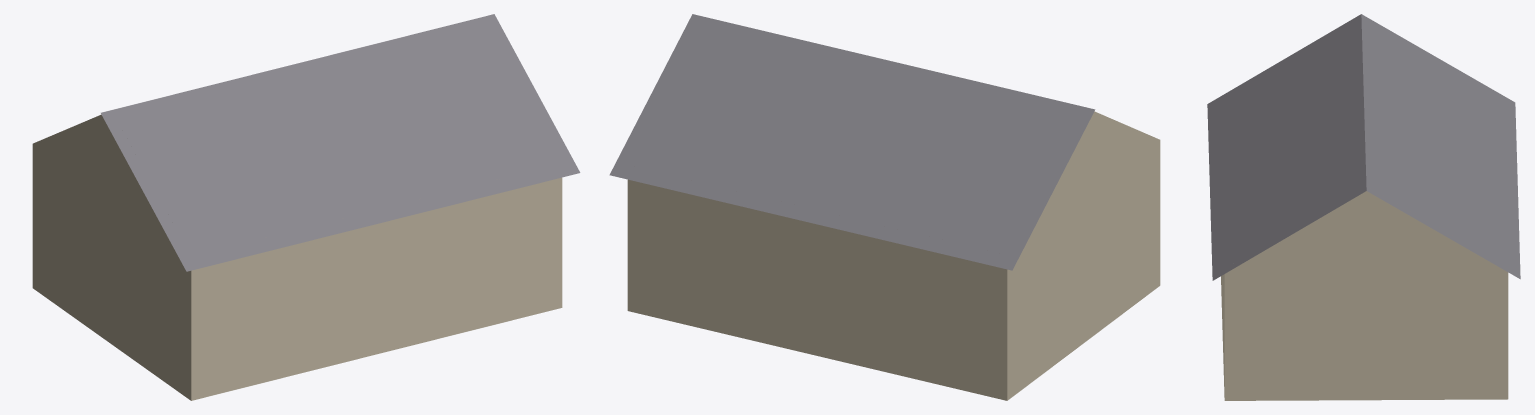
3 renders of one model, left to right at view 1: azimuth 30°, elevation 25°; view 2: azimuth 150°, elevation 25°; view 3: azimuth 270°, elevation 25°, orthographic. The views are drawn at different scales.
Visible parts, largest first — view 1: tuile; view 2: tuile; view 3: tuile.
Boxes of the visible parts, x1,y1,x2,y2 form: tuile: (32, 14, 580, 400); tuile: (609, 14, 1160, 400); tuile: (1207, 14, 1520, 400).
Bounding box in the file's own units: 12.2 × 6.83 × 9.05.
